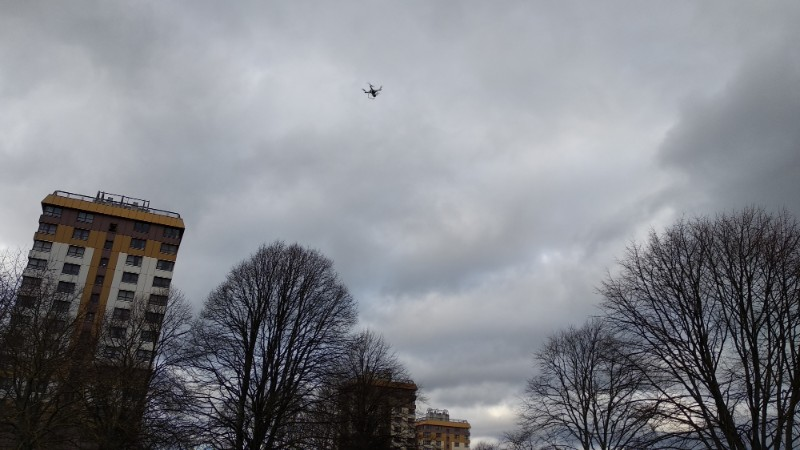drone: (361, 81, 383, 98)
